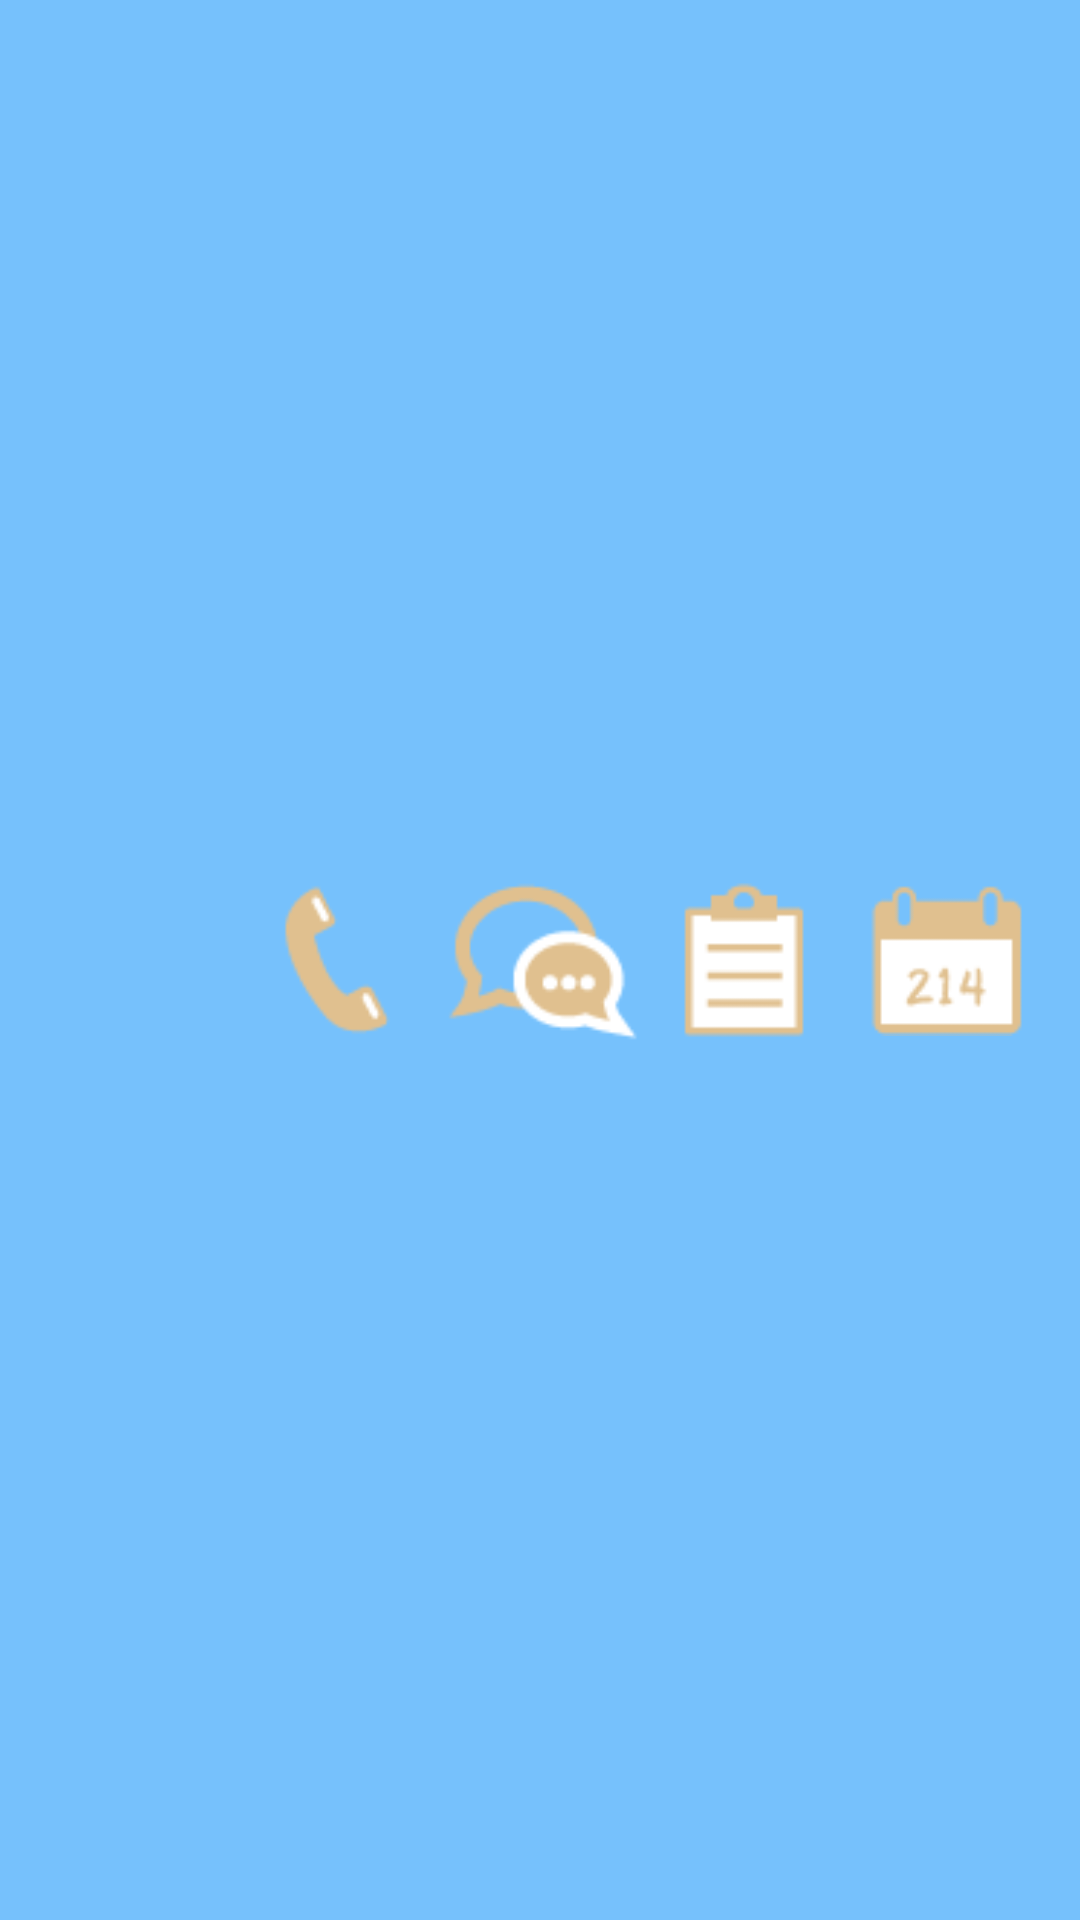

Where icons sit on this 1080x1920 app screen, as (left=x1, top=y1, right=x2, bottom=y2):
important date: (left=872, top=886, right=1022, bottom=1036)
listing: (left=684, top=884, right=804, bottom=1036)
phone: (left=285, top=887, right=388, bottom=1032)
short message: (left=450, top=885, right=636, bottom=1038)
